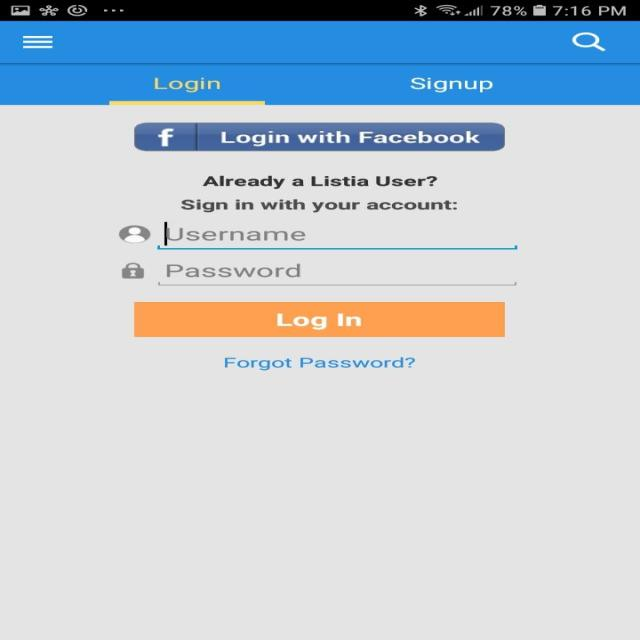EditText: (157, 221, 518, 250), (158, 263, 516, 285)
Icon: (570, 32, 606, 51), (118, 225, 150, 243), (22, 36, 54, 49), (120, 262, 144, 278)
Text: (180, 198, 457, 212), (202, 176, 438, 190), (224, 356, 415, 371), (165, 228, 306, 242), (166, 264, 300, 278), (410, 77, 492, 92), (154, 77, 220, 92)
TextButton: (133, 301, 504, 337), (133, 122, 504, 152)
